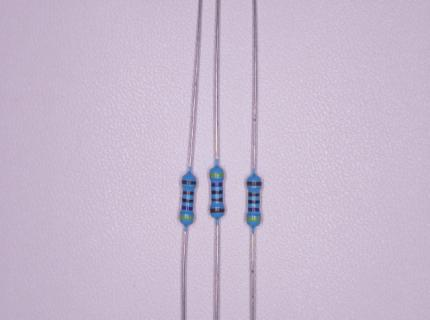Black band: (182, 199, 194, 203), (211, 190, 223, 194), (248, 200, 260, 204)
Brown band: (182, 180, 196, 185), (210, 208, 224, 213), (247, 181, 261, 186), (182, 190, 194, 195), (248, 192, 260, 196), (211, 197, 222, 201)
Violet band: (182, 205, 193, 211), (248, 214, 260, 219), (211, 183, 222, 187)
Yellow band: (210, 173, 224, 177), (180, 216, 193, 220), (247, 224, 260, 228)
